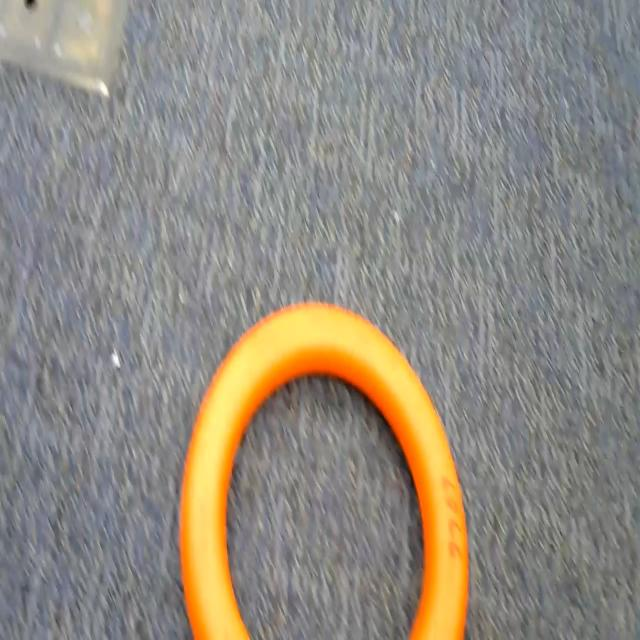note: (157, 284, 532, 640)
